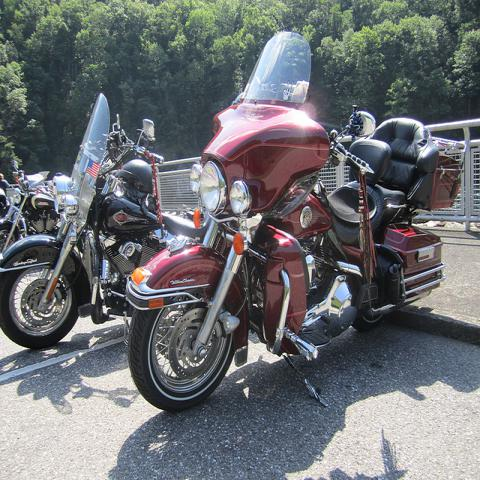motorcycle: (127, 28, 468, 412), (0, 91, 200, 348), (19, 116, 168, 214), (0, 177, 62, 260)
